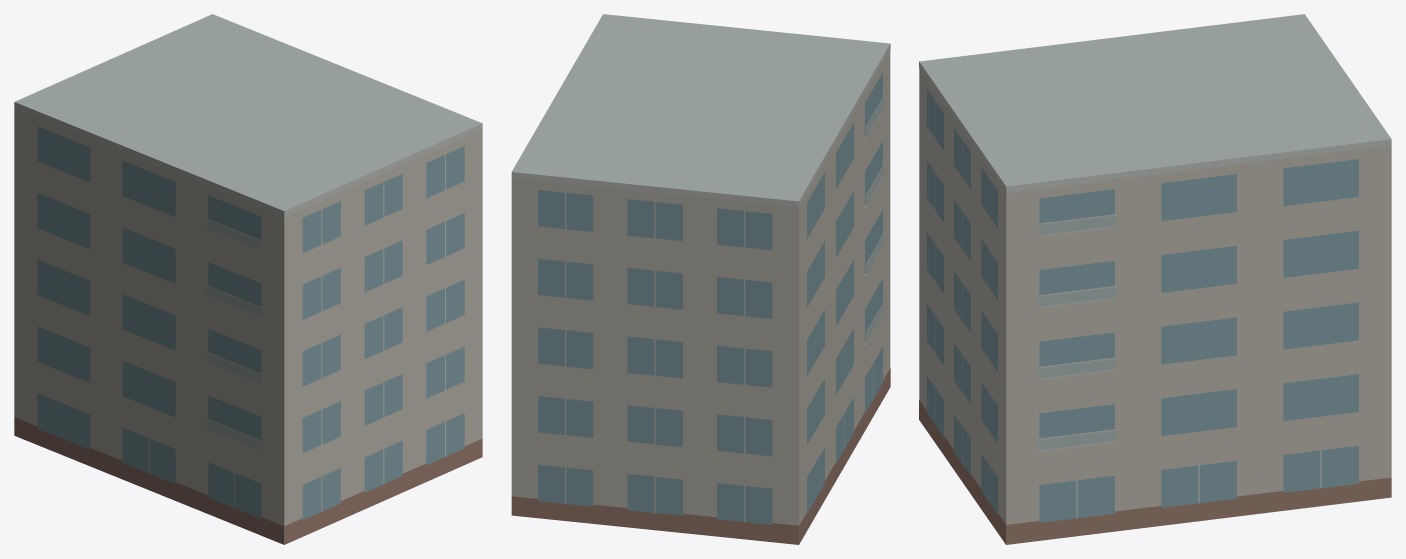
File: survey-upis-32614052.glb
3 views of the same model, side by side, from view 1: azimuth 30°, elevation 25°; view 2: azimuth 150°, elevation 25°; view 3: azimuth 270°, elevation 25° (orthographic). The views are drawn at different scales.
Parts seen in each view (by area): view 1: survey-upis-32614052.tmp; view 2: survey-upis-32614052.tmp; view 3: survey-upis-32614052.tmp.
Part boxes in pixels (x1,y1,x2,y2): survey-upis-32614052.tmp: (14,14,482,544); survey-upis-32614052.tmp: (511,14,890,544); survey-upis-32614052.tmp: (919,14,1391,544).
Size of the model in its own units: 14.16 by 13.7 by 16.38.
